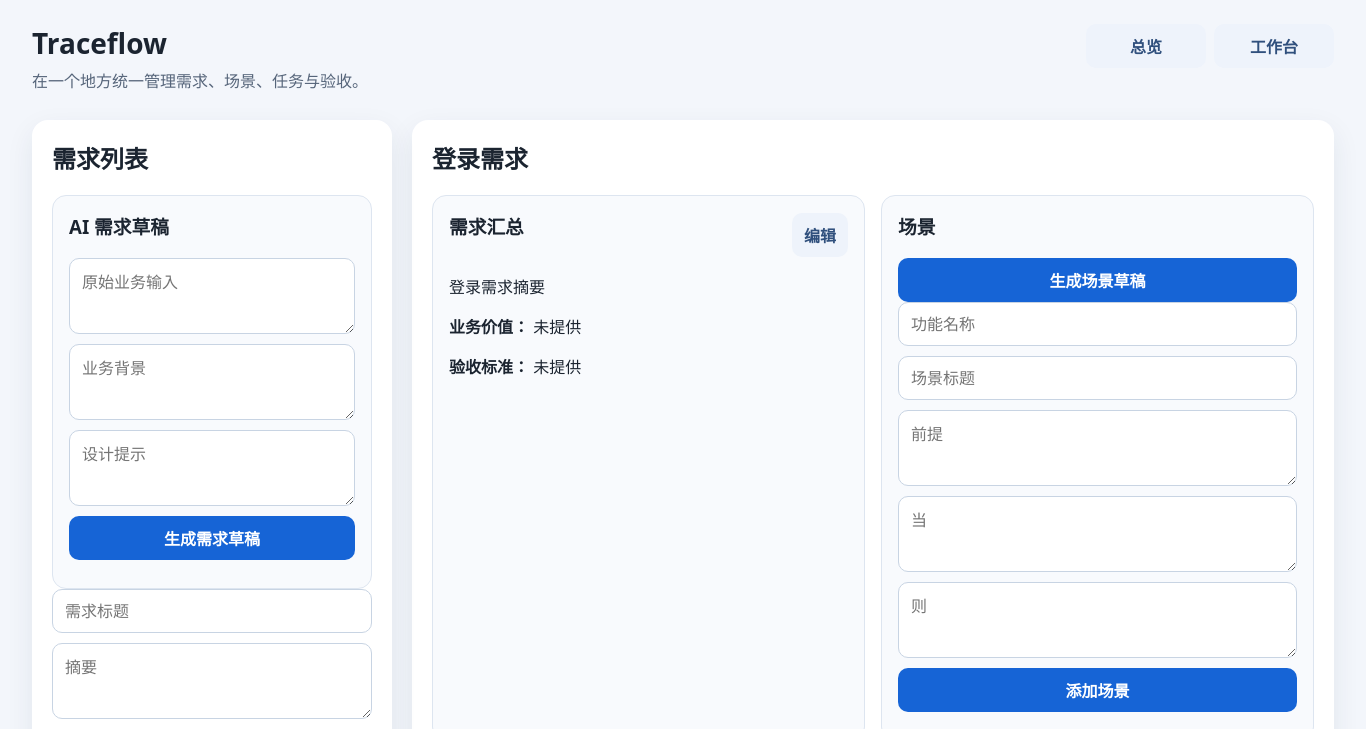
Test: App › shows active dashboard filters and clears them individually
Expected: the text "登录需求摘要" is shown, [449, 276, 545, 298]
Step 1. Click the button "总览" → click(1146, 46), box [1086, 24, 1206, 68]
(page scrolled)
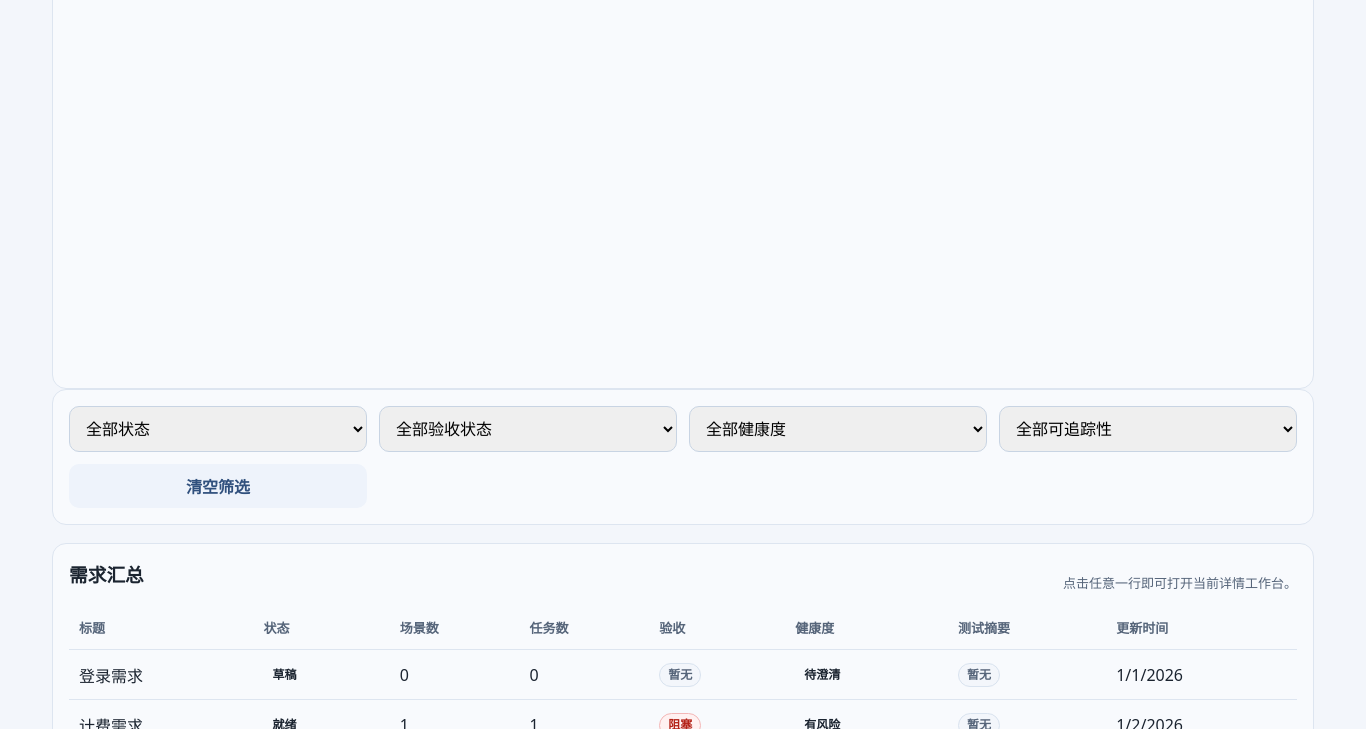
Expected: the cell "登录需求" is shown, [69, 649, 254, 700]
Step 2. Select "待澄清" in the dropdown named "总览健康度筛选" → (838, 429), box [689, 406, 987, 452]
(page scrolled)
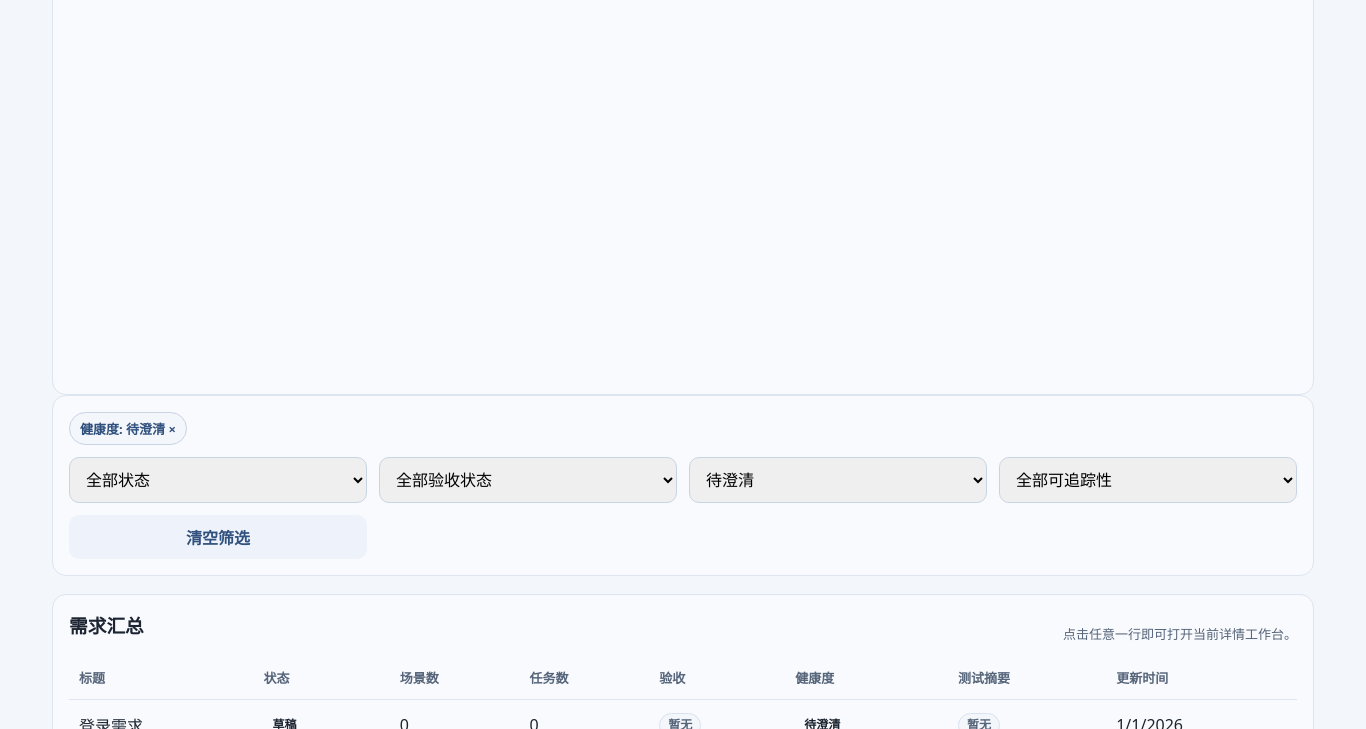
Step 3. Select "缺少场景" in the dropdown named "总览可追踪性筛选" → (1148, 480), box [999, 457, 1297, 503]
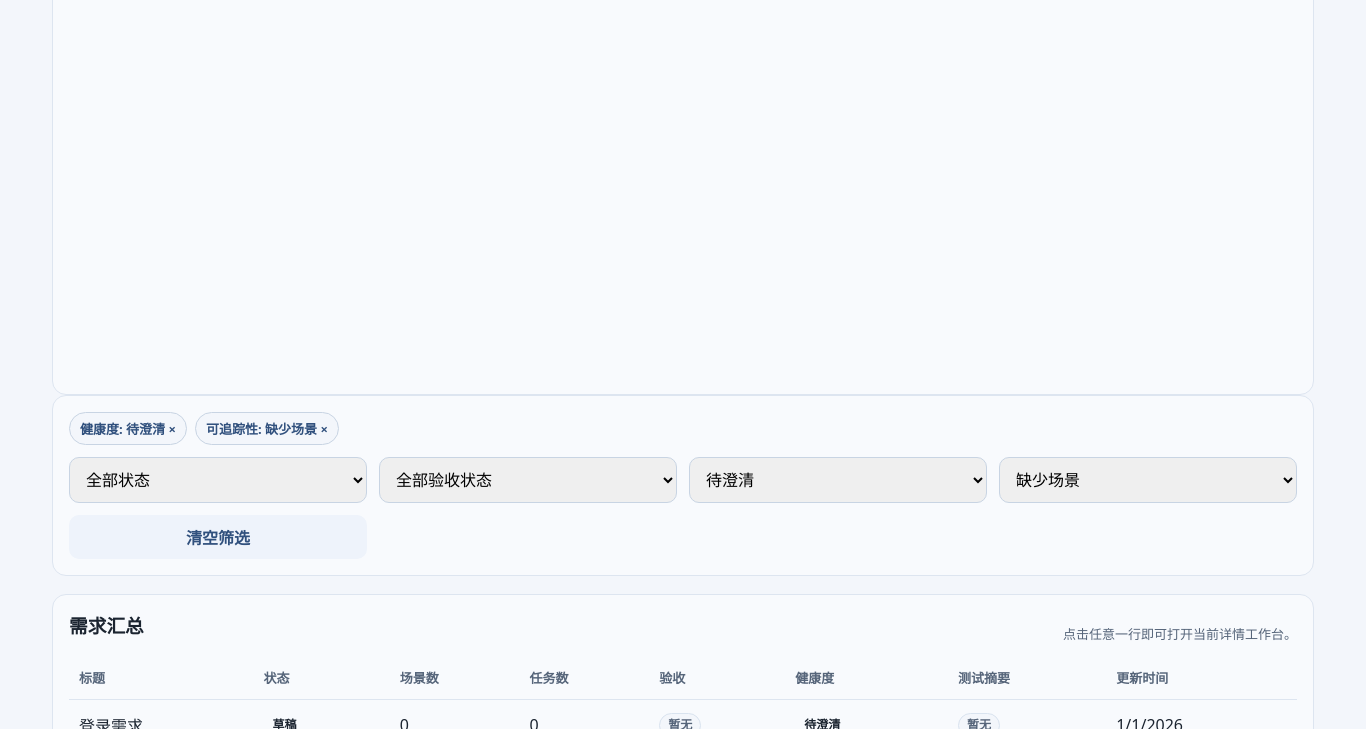
Expected: the button "健康度: 待澄清 ×" is shown
Expected: the button "可追踪性: 缺少场景 ×" is shown, [195, 412, 339, 445]
Step 4. Click the button "健康度: 待澄清 ×" → click(128, 428), box [69, 412, 187, 445]
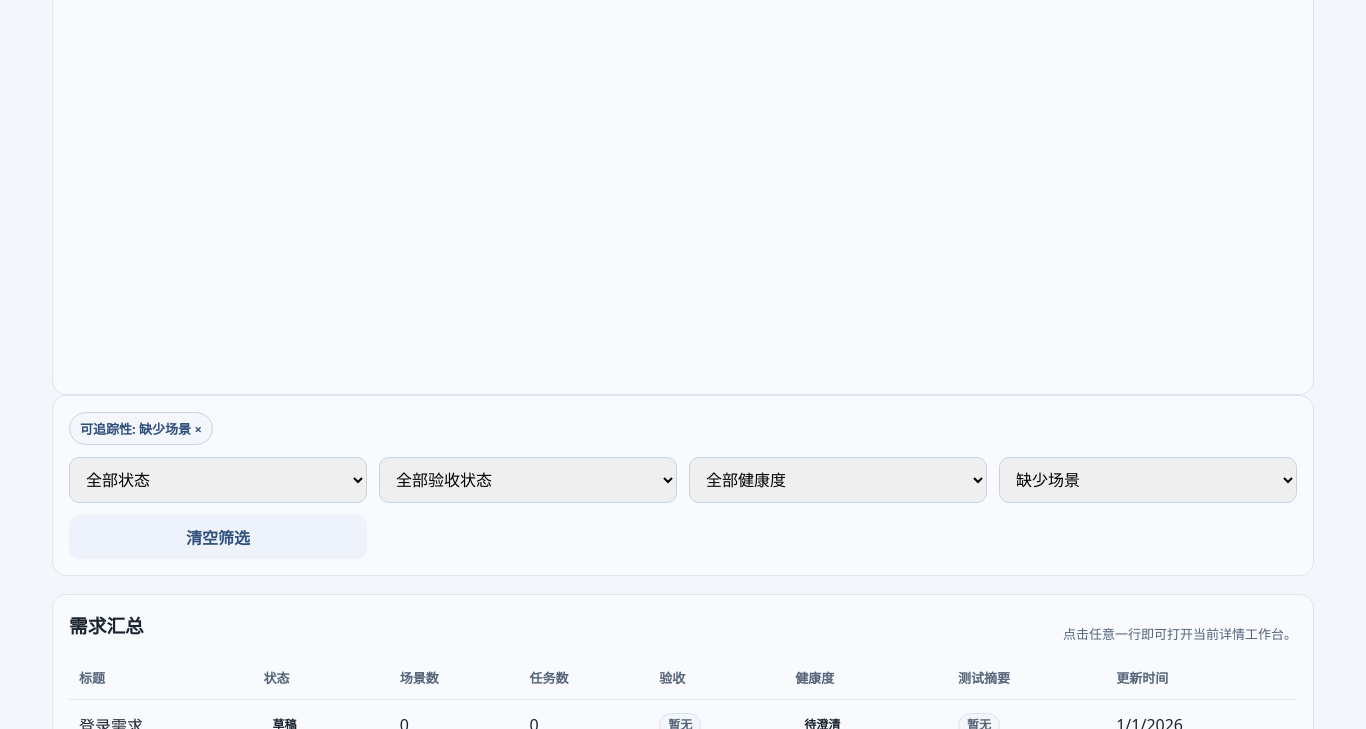
Expected: the button "可追踪性: 缺少场景 ×" is shown, [69, 412, 213, 445]
Expected: the button "健康度: 待澄清 ×" is gone
